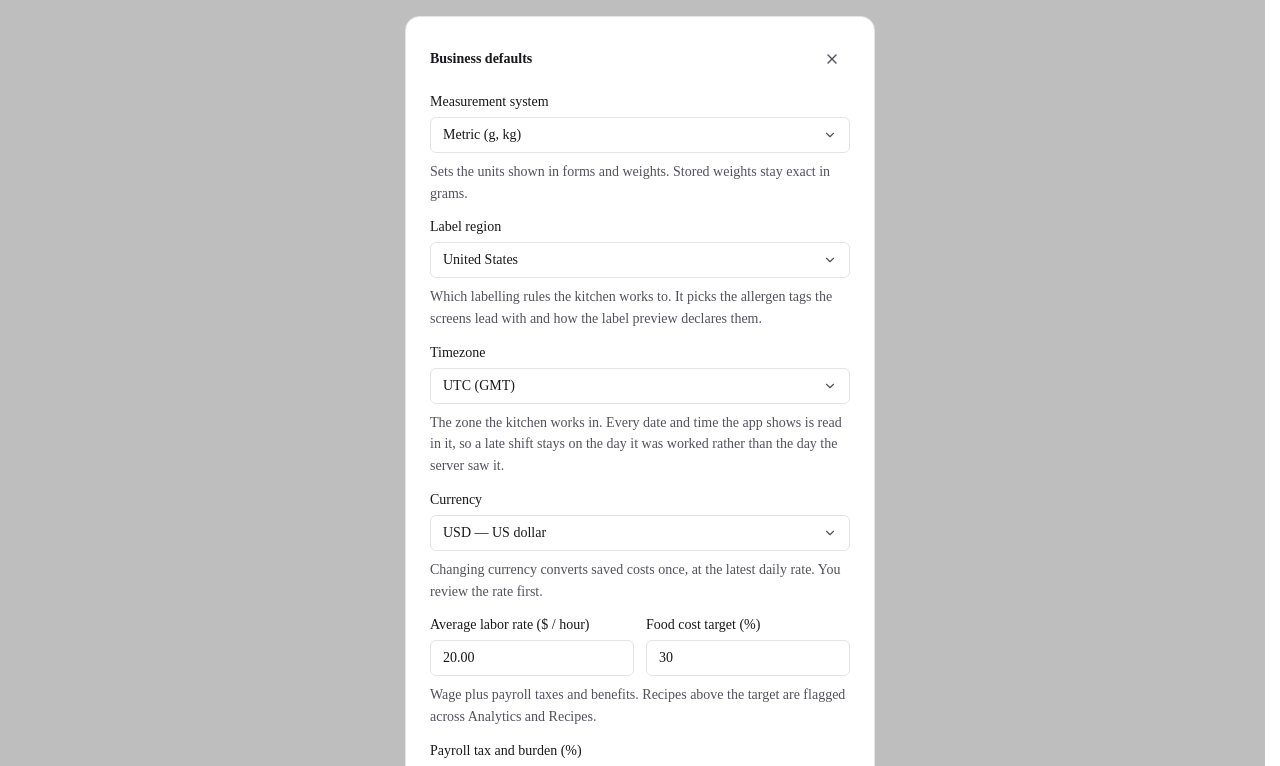
the currency conversion confirm › re-asks after a cancelled confirm instead of converting
Press the mouse on the dropdown named "Currency": (495, 532) x1=430 y1=515 x2=850 y2=551
Click the dropdown named "Currency": click(495, 532) x1=430 y1=515 x2=850 y2=551
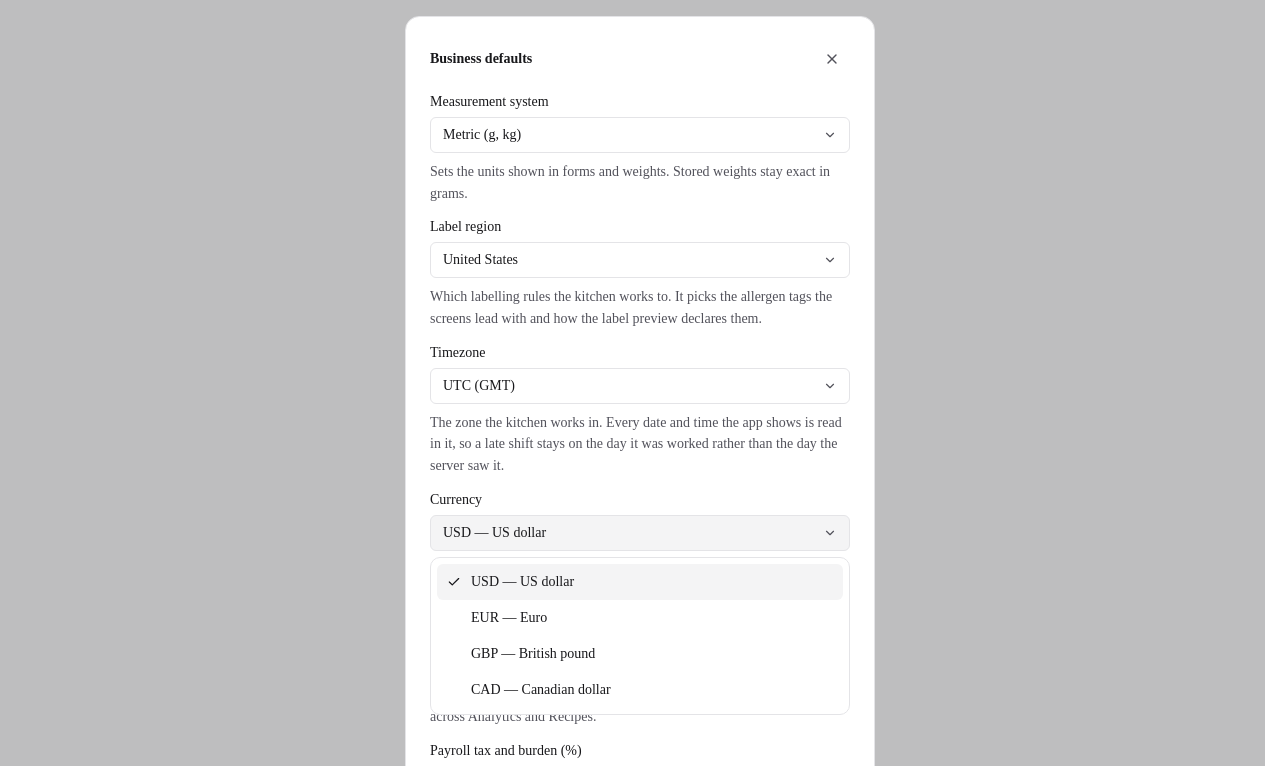
Press the mouse on the option "EUR — Euro": (509, 618) x1=471 y1=610 x2=547 y2=625
Click the option "EUR — Euro": click(509, 618) x1=471 y1=610 x2=547 y2=625
(page scrolled)
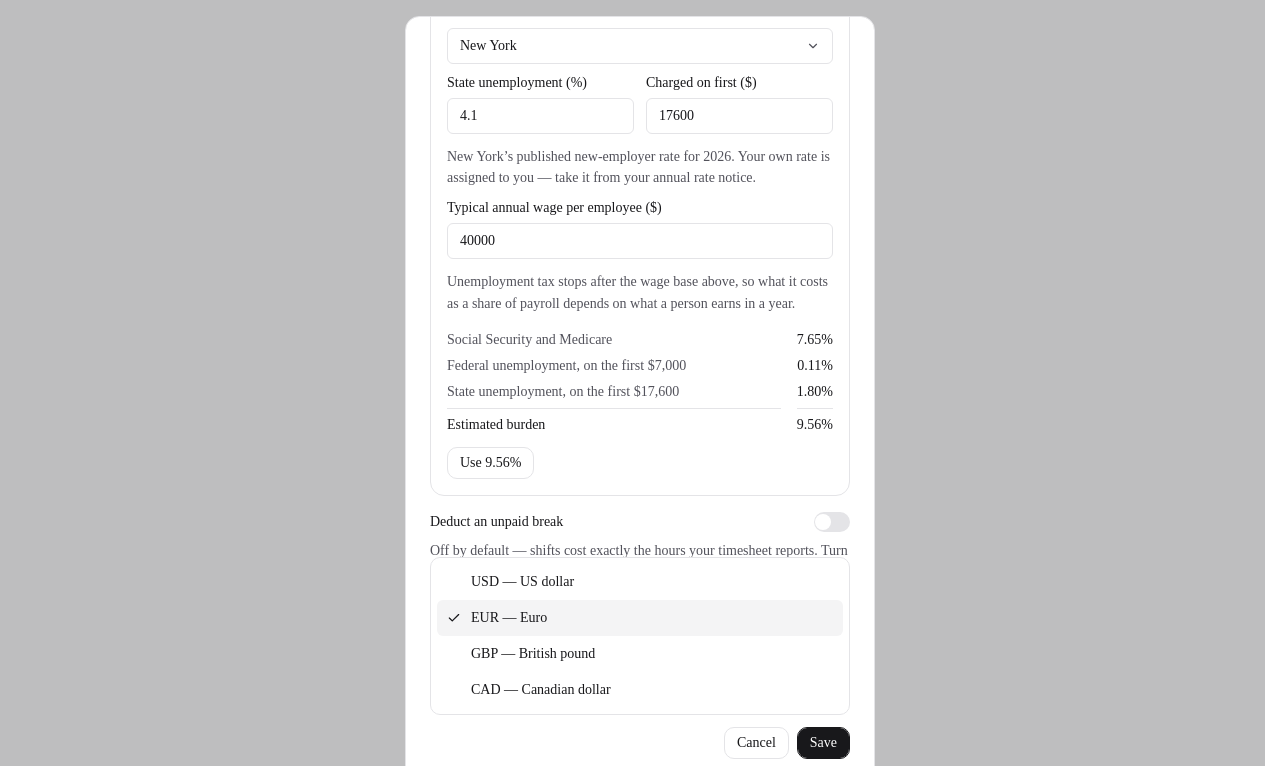
Click the button "Save": click(823, 743) x1=797 y1=727 x2=850 y2=759
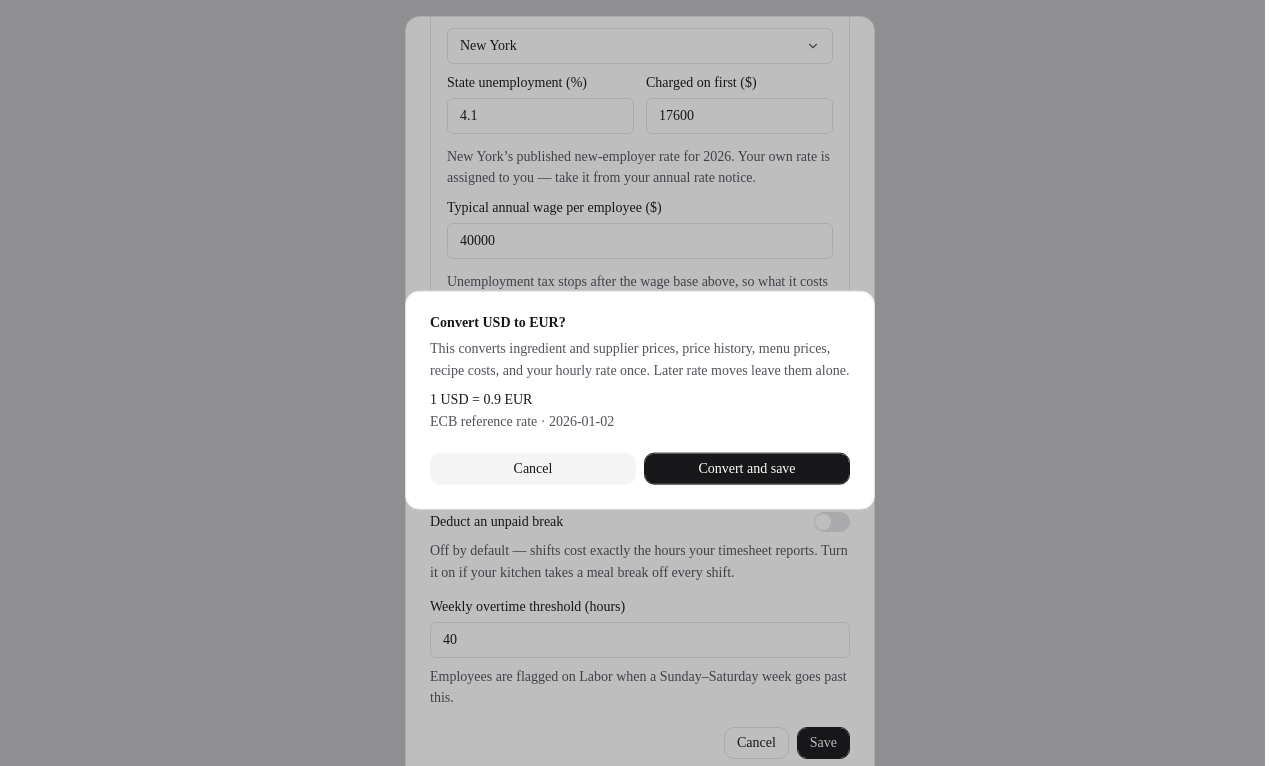
Expected: the heading "Convert USD to EUR?" is shown, x1=430 y1=315 x2=566 y2=330
Click the button "Cancel": click(533, 468) x1=430 y1=452 x2=636 y2=484
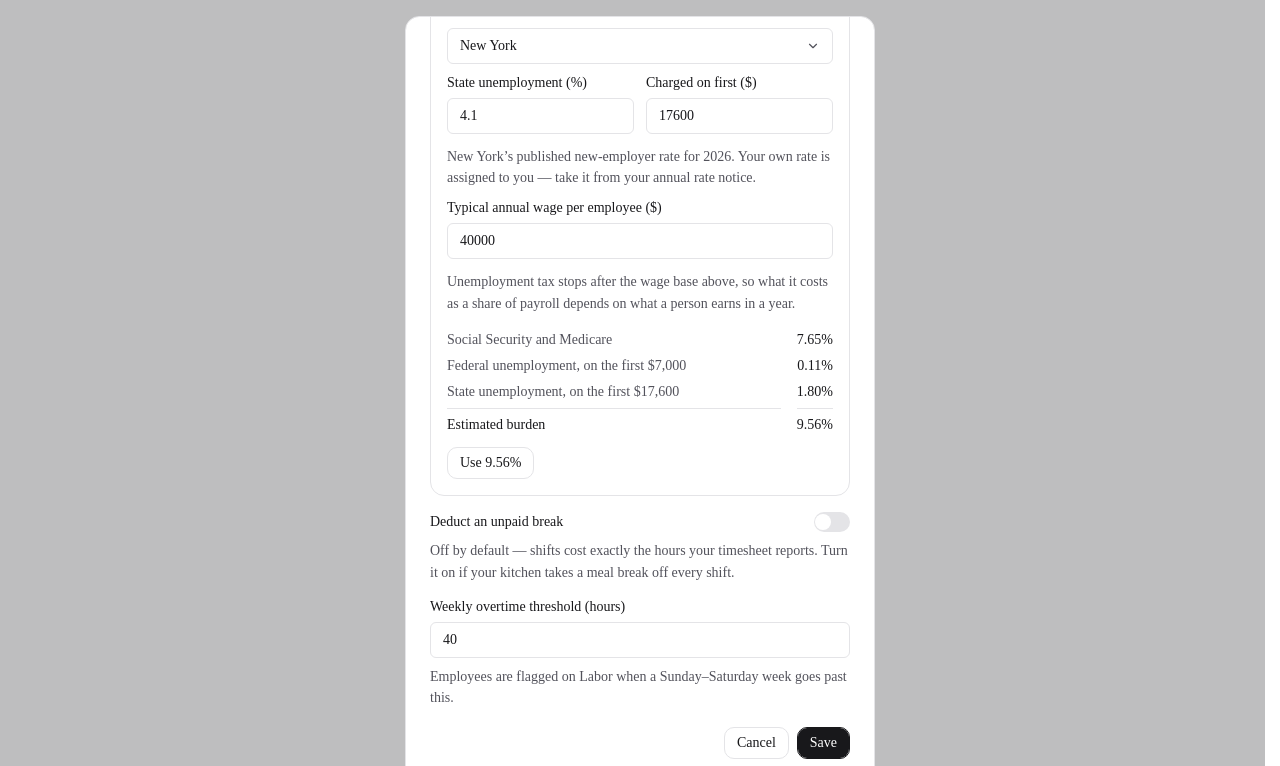
Expected: the heading "Convert USD to EUR?" is gone
Click the button "Save": click(823, 743) x1=797 y1=727 x2=850 y2=759
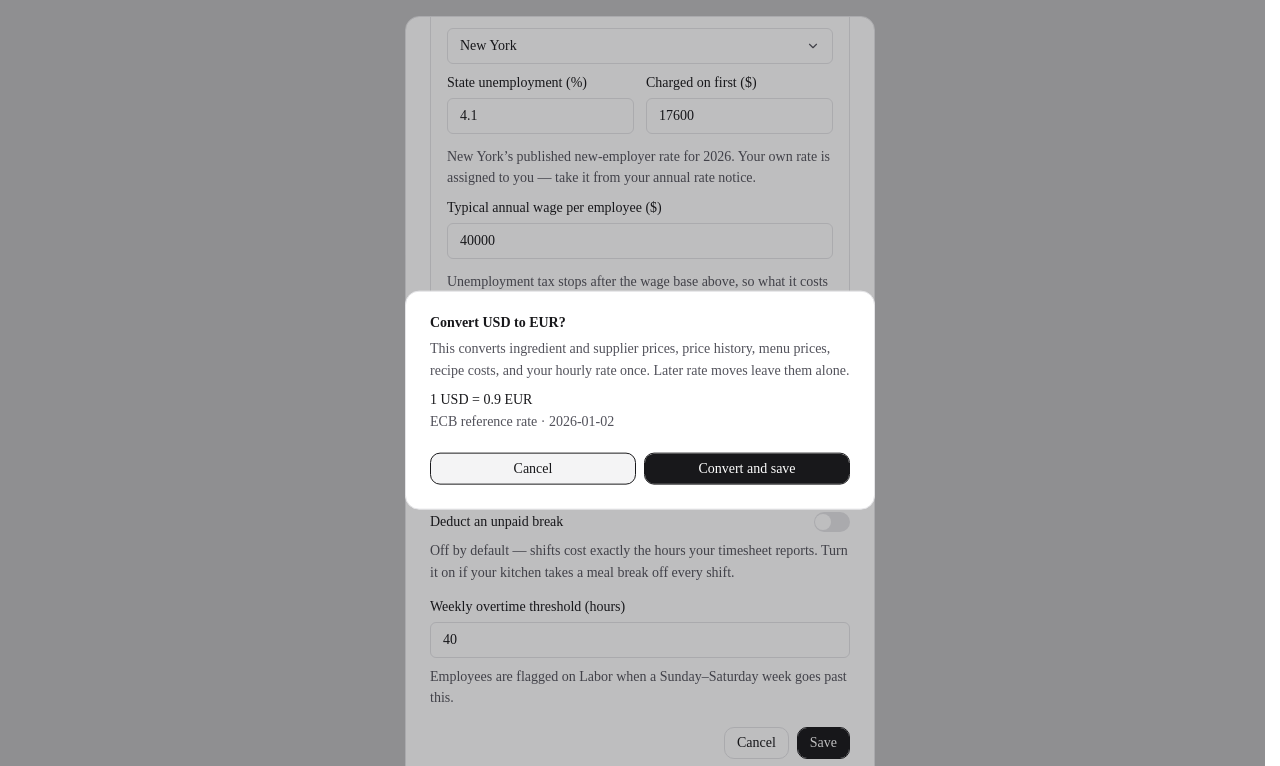
Expected: the heading "Convert USD to EUR?" is shown, x1=430 y1=315 x2=566 y2=330
